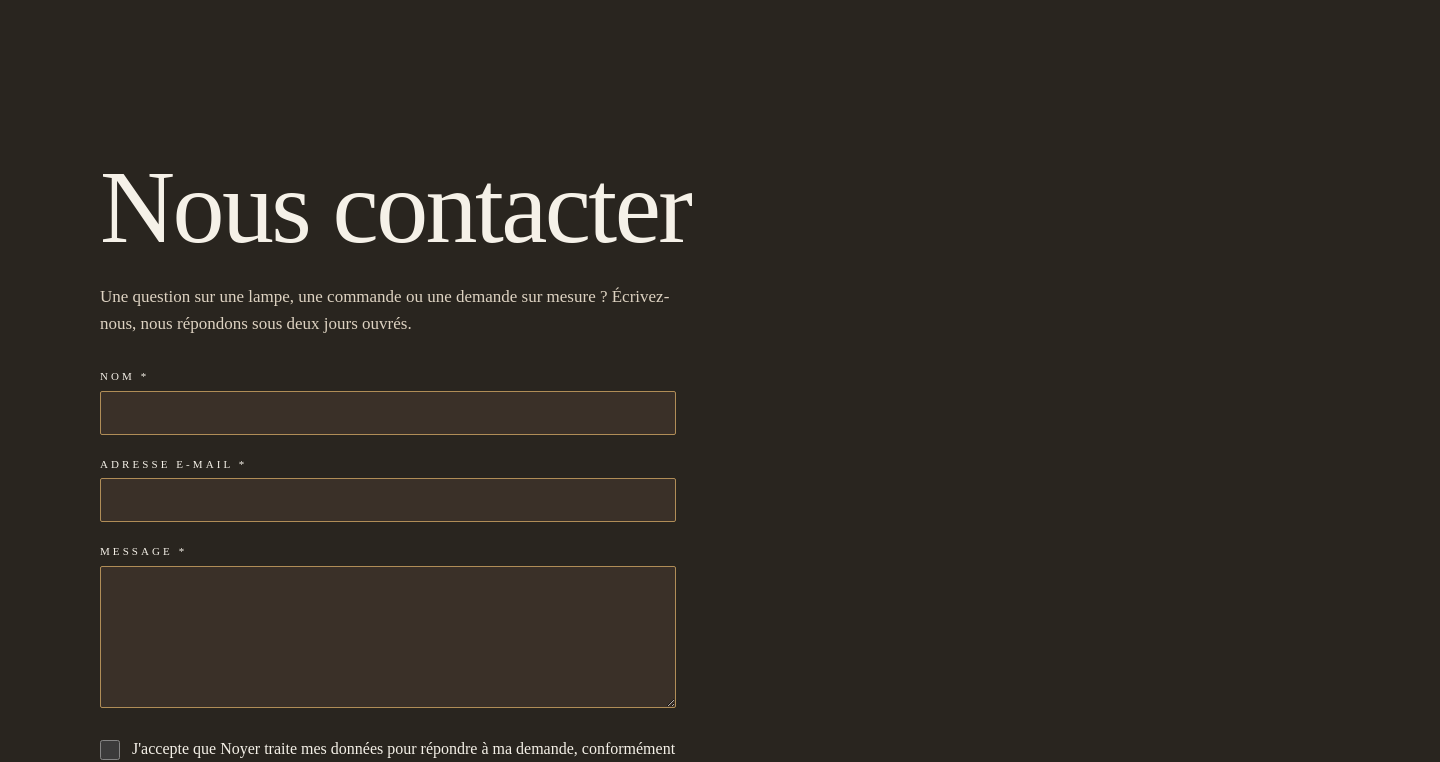
Critère 2 : consentement au traitement des données (nLPD) › sans consentement : message d'erreur et aucun envoi
Type "Bob" into the field labelled "Nom *" at (388, 413), box [100, 391, 676, 435]
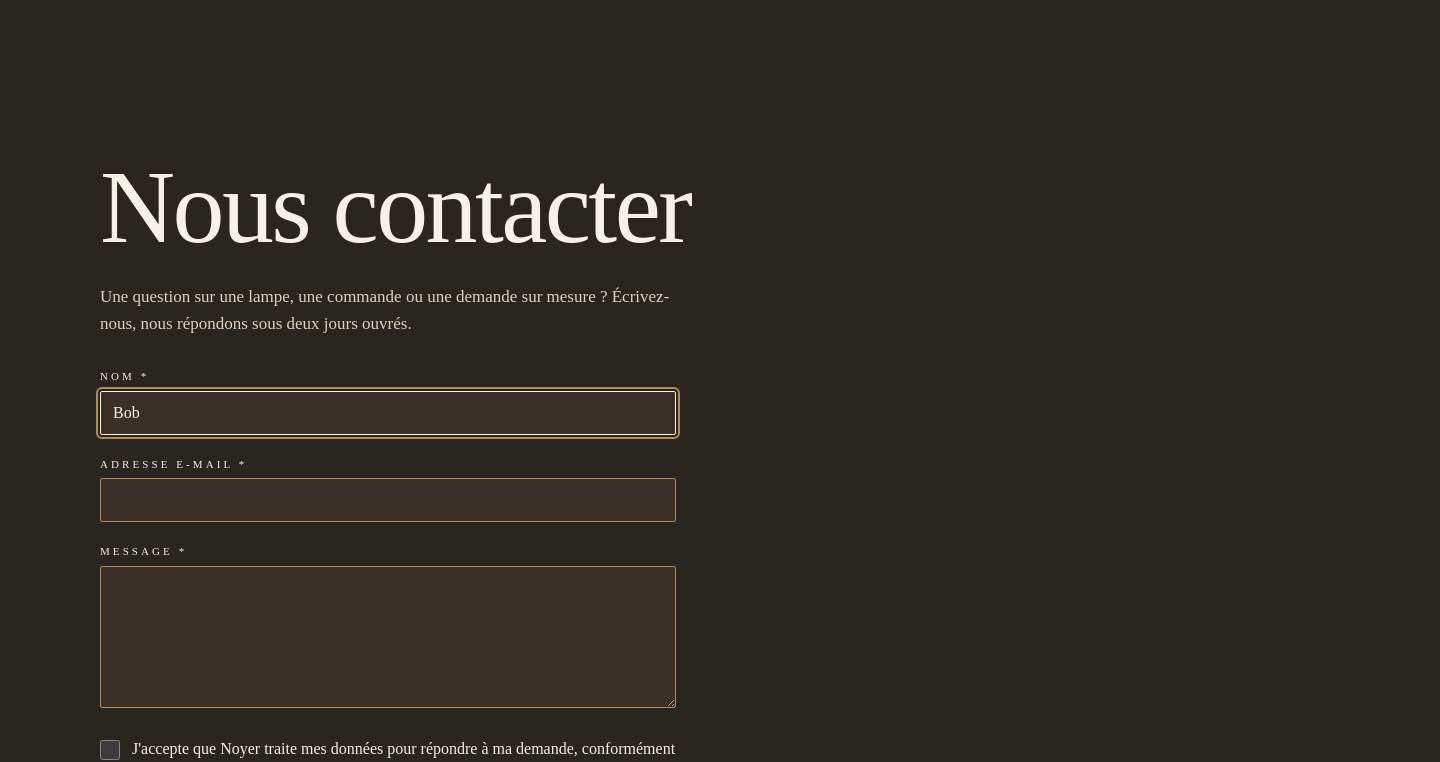
Type "bob@exemple.ch" into the field labelled "Adresse e-mail *" at (388, 500), box [100, 478, 676, 522]
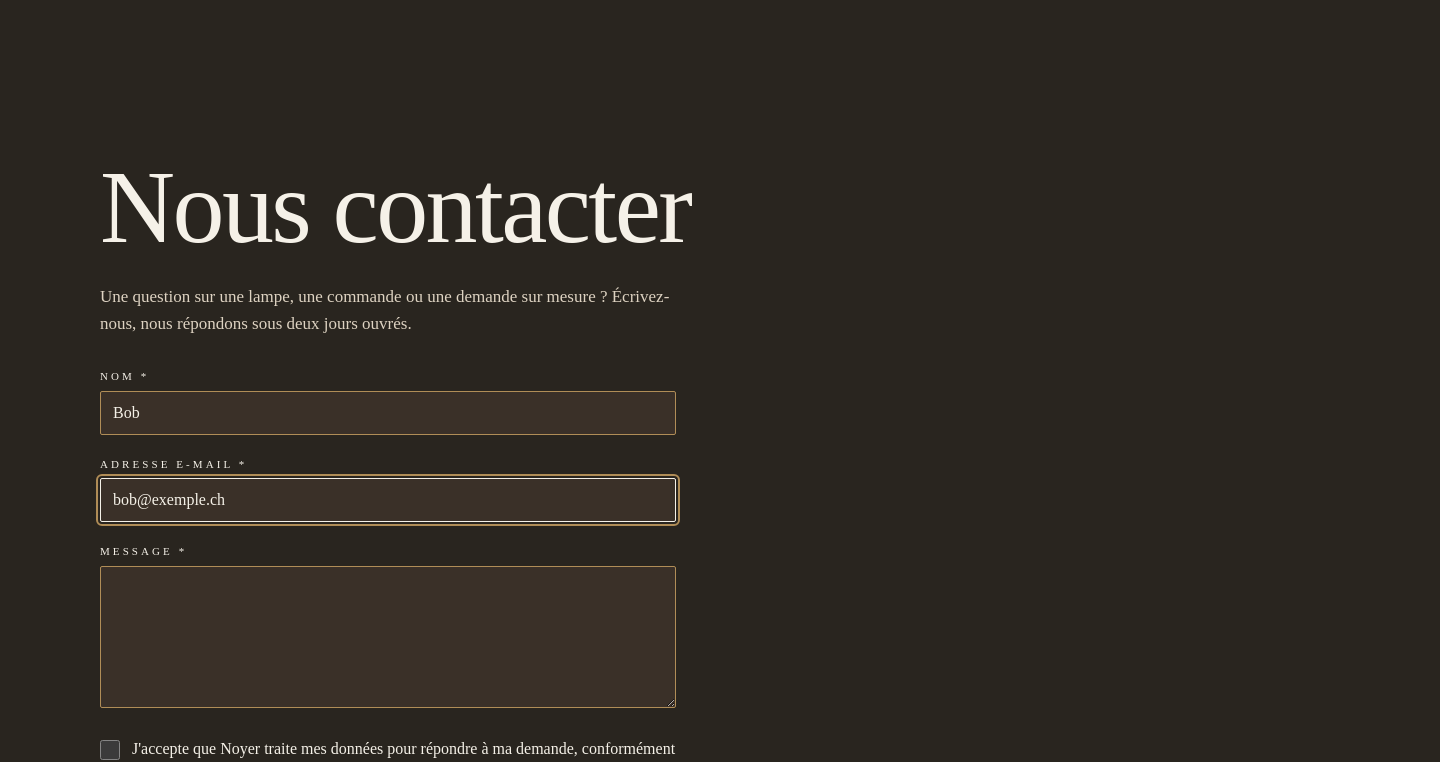
Type "Une question" into the text box labelled "Message *" at (388, 636), box [100, 566, 676, 708]
(page scrolled)
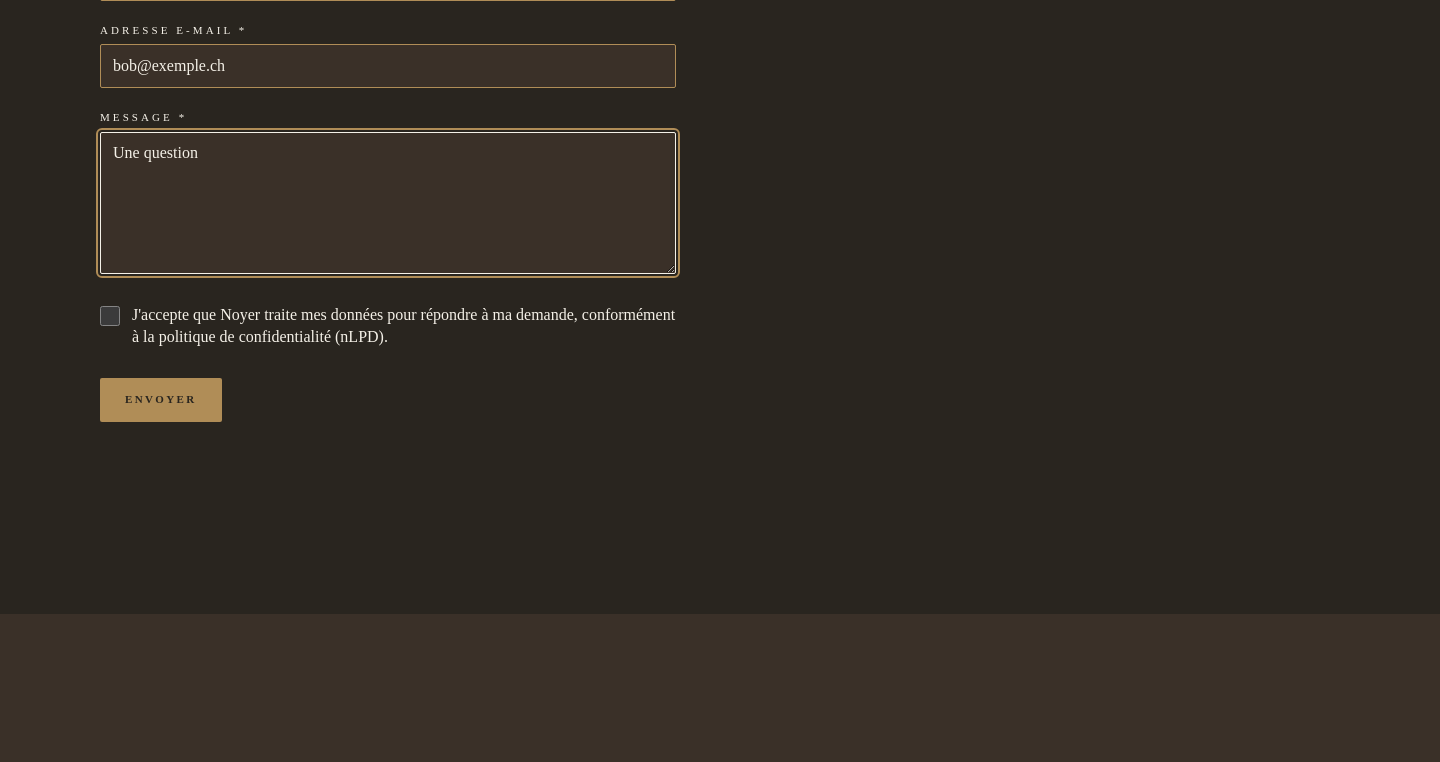
Click the button "Envoyer" at (161, 400), box [100, 378, 222, 422]
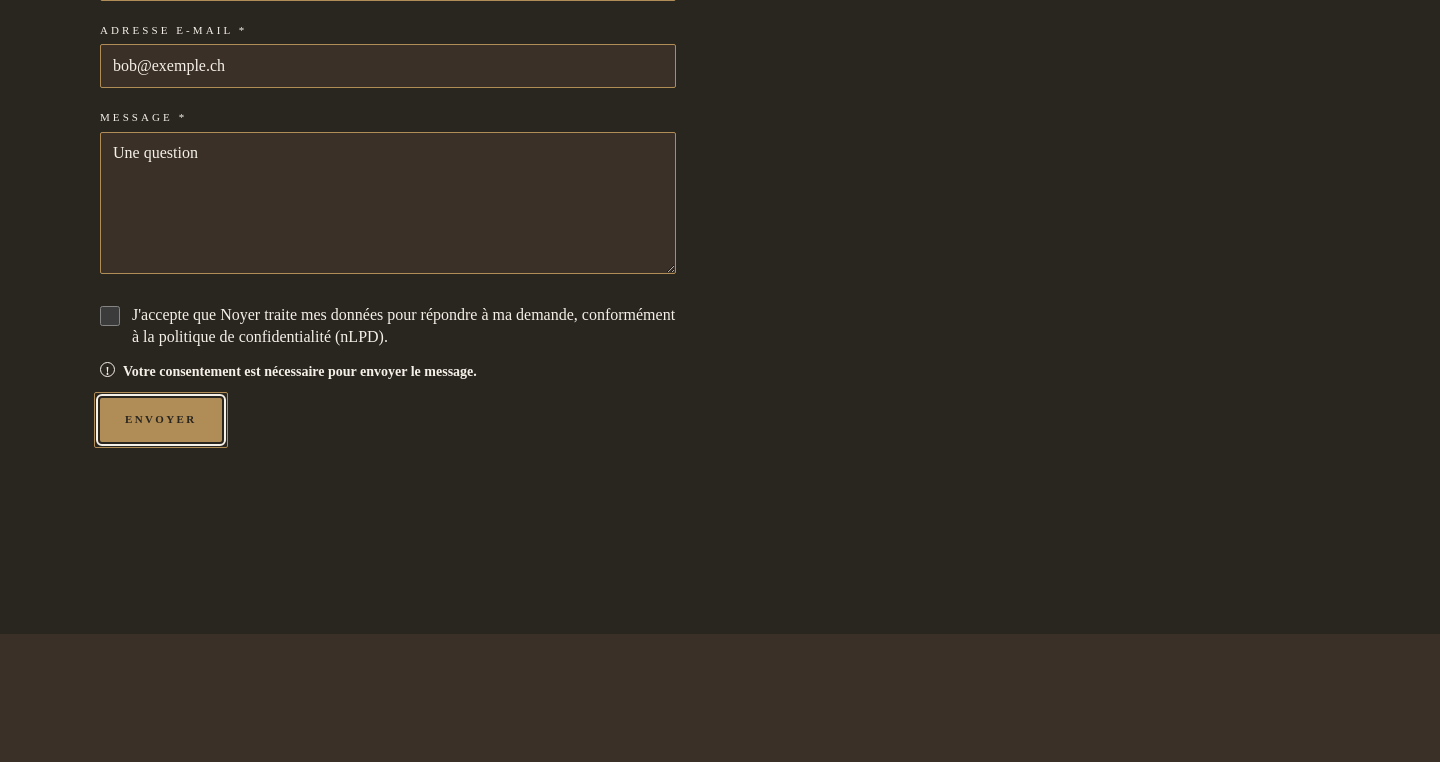
Result: the text "Votre consentement est nécessaire pour envoyer le message." is shown at [123, 362, 477, 382]
